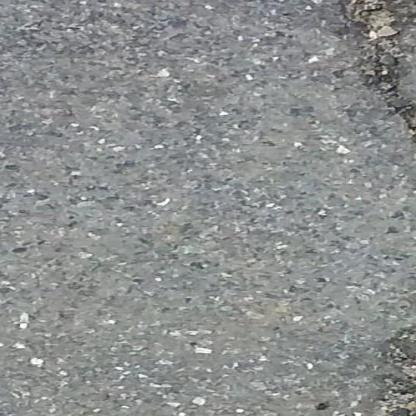Cracks: (325, 0, 416, 155), (371, 251, 416, 416)
